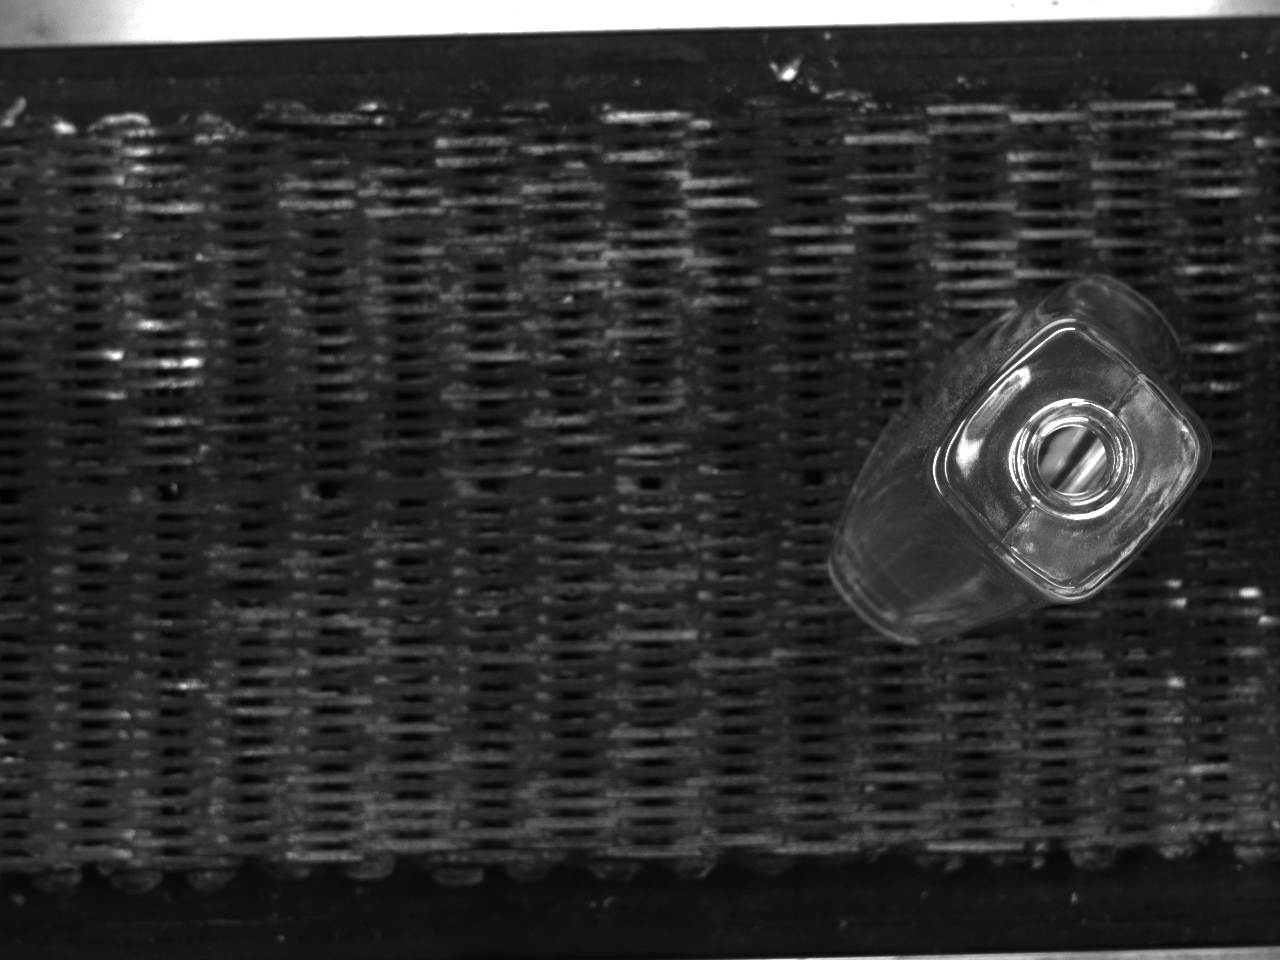bottleneck: (1015, 398, 1136, 517)
